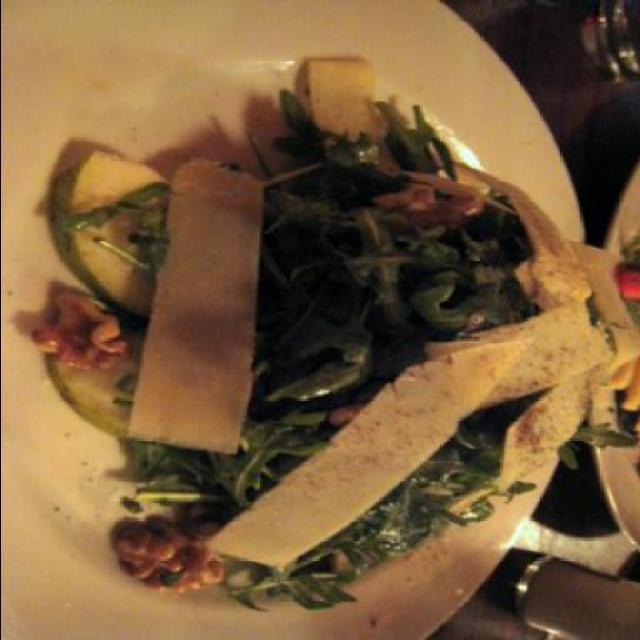Salad: (17, 51, 640, 614)
